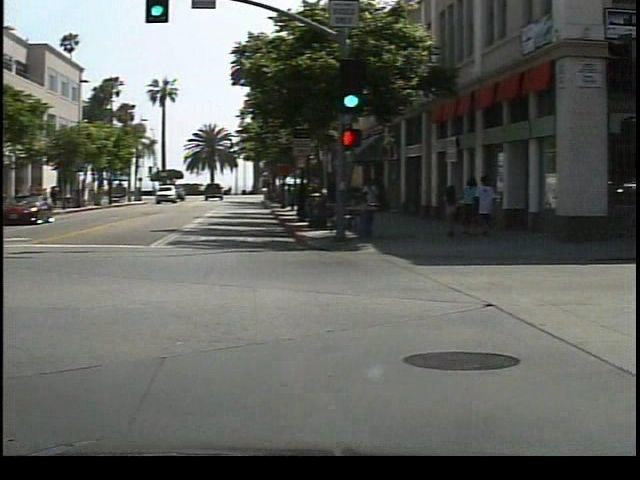person: (367, 175, 395, 229)
